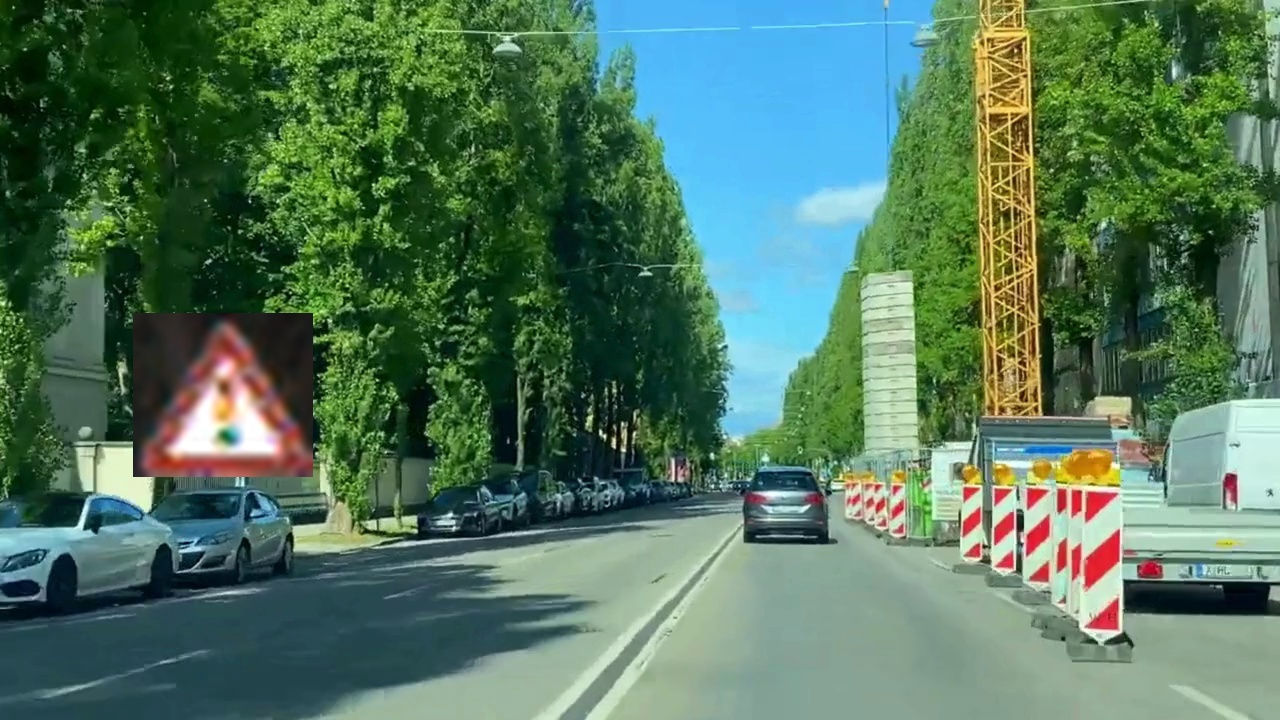Signals: (133, 313, 313, 477)
